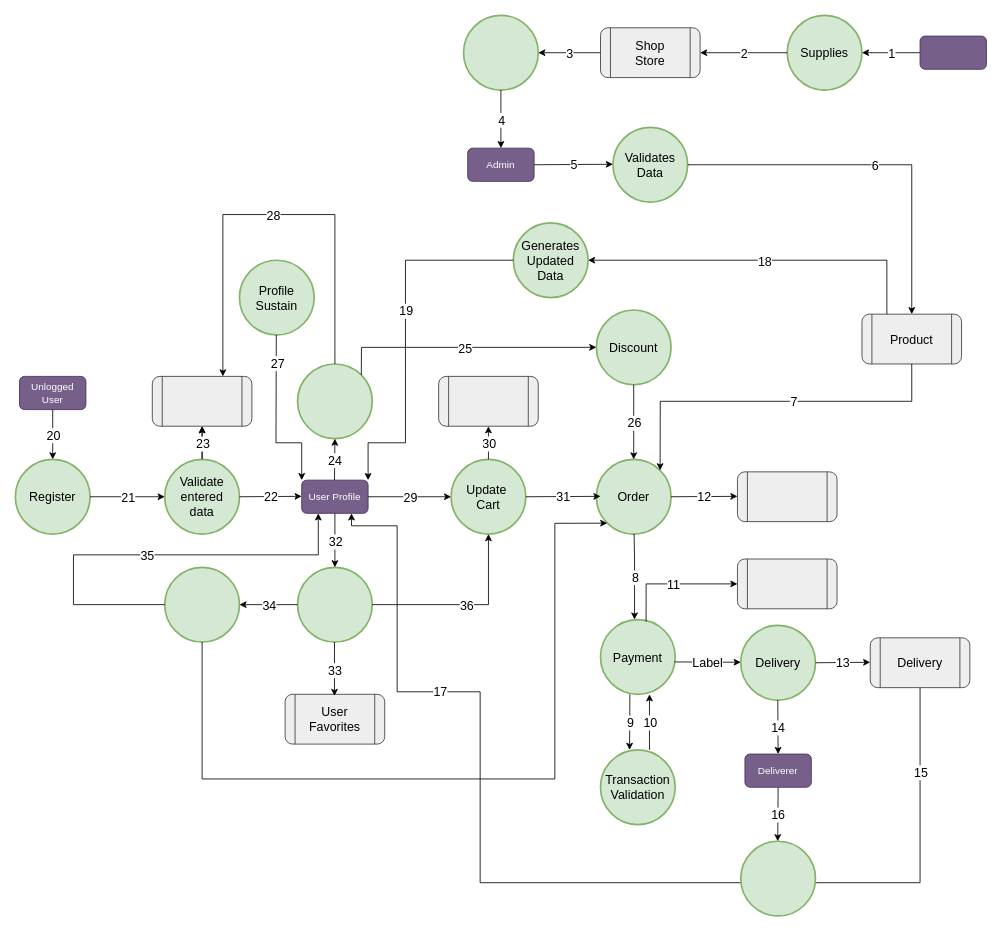
Image size: 1001x930. Some labels were removed from this diagram. Here are the shapes that lost their labels. From the top down, the centre of each, then its label:
At point 500,52: "Data".
At point 952,52: "Supplier".
At point 201,401: "Users".
At point 334,401: "Become Loyal".
At point 488,401: "User Cart".
At point 787,496: "User Order".
At point 787,583: "Payments".
At point 202,604: "Suggestions".
At point 334,604: "Update Favorites".
At point 778,878: "Delivery Status".
